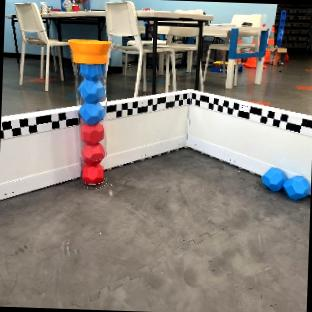Loader: (70, 40, 109, 185)
V5_BLUE: (262, 167, 311, 200), (79, 63, 105, 123)
V5_RED: (83, 162, 103, 184), (81, 124, 104, 143)
